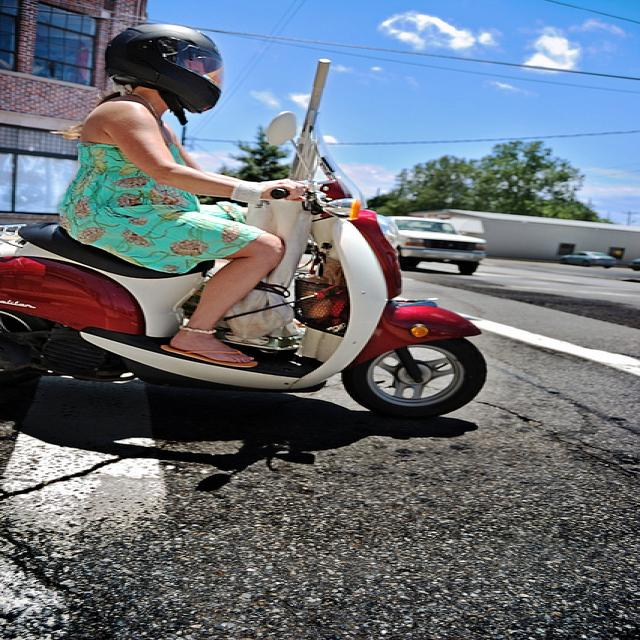motor: (4, 112, 488, 417)
